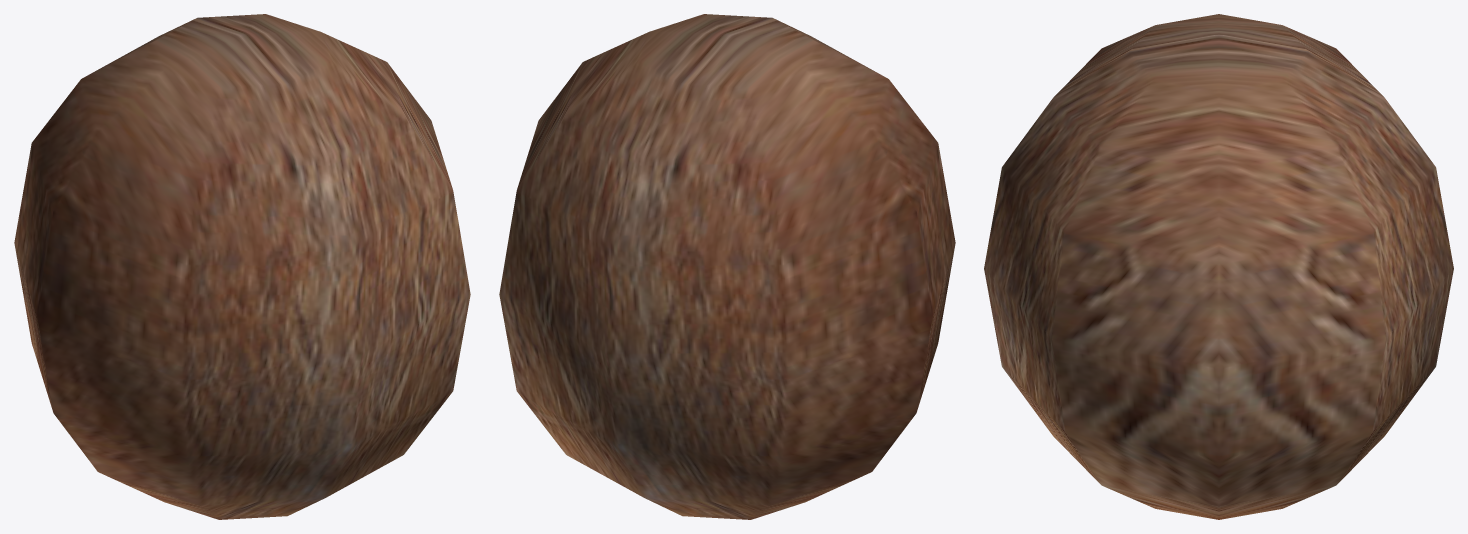
File: fullcoconut.fbx
3 views of the same model, side by side, from view 1: azimuth 30°, elevation 25°; view 2: azimuth 150°, elevation 25°; view 3: azimuth 270°, elevation 25° (orthographic).
Visible parts, largest first — view 1: Sphere; view 2: Sphere; view 3: Sphere.
Part boxes in pixels (bbox=[...]): Sphere: bbox=[14, 14, 470, 519]; Sphere: bbox=[499, 14, 955, 519]; Sphere: bbox=[984, 14, 1453, 519].
Bounding box in the file's own units: 2 × 2.17 × 2.
